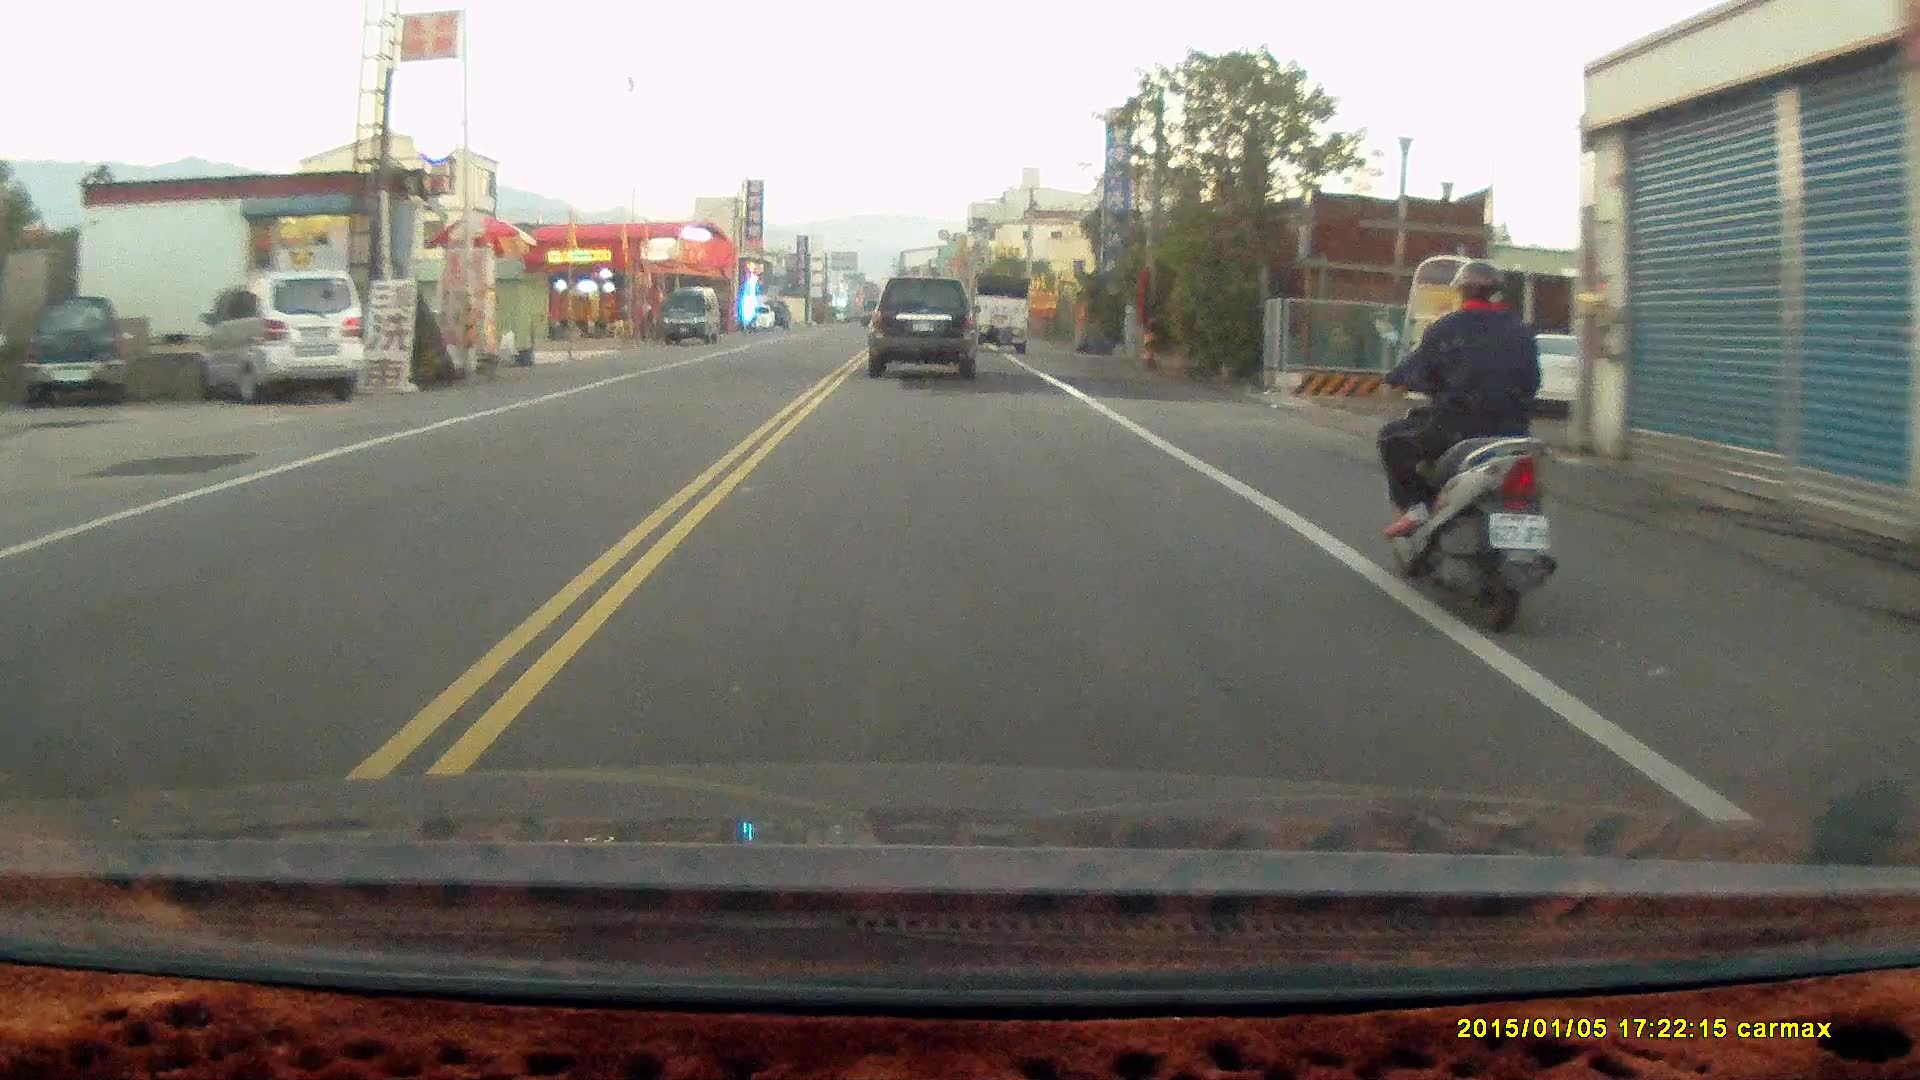rider: (1371, 255, 1556, 637)
vehicle: (199, 266, 369, 408), (19, 295, 127, 410), (869, 275, 981, 382), (971, 276, 1032, 356), (663, 286, 720, 346)
